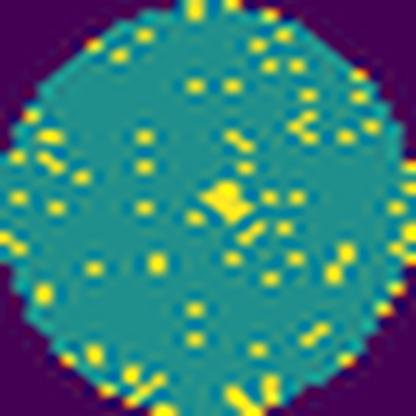Center: (195, 170, 258, 229)
